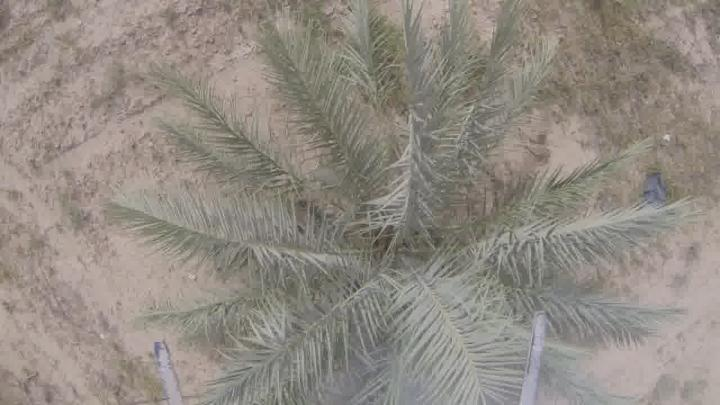Date-Palm-Crown: (248, 151, 543, 378)
